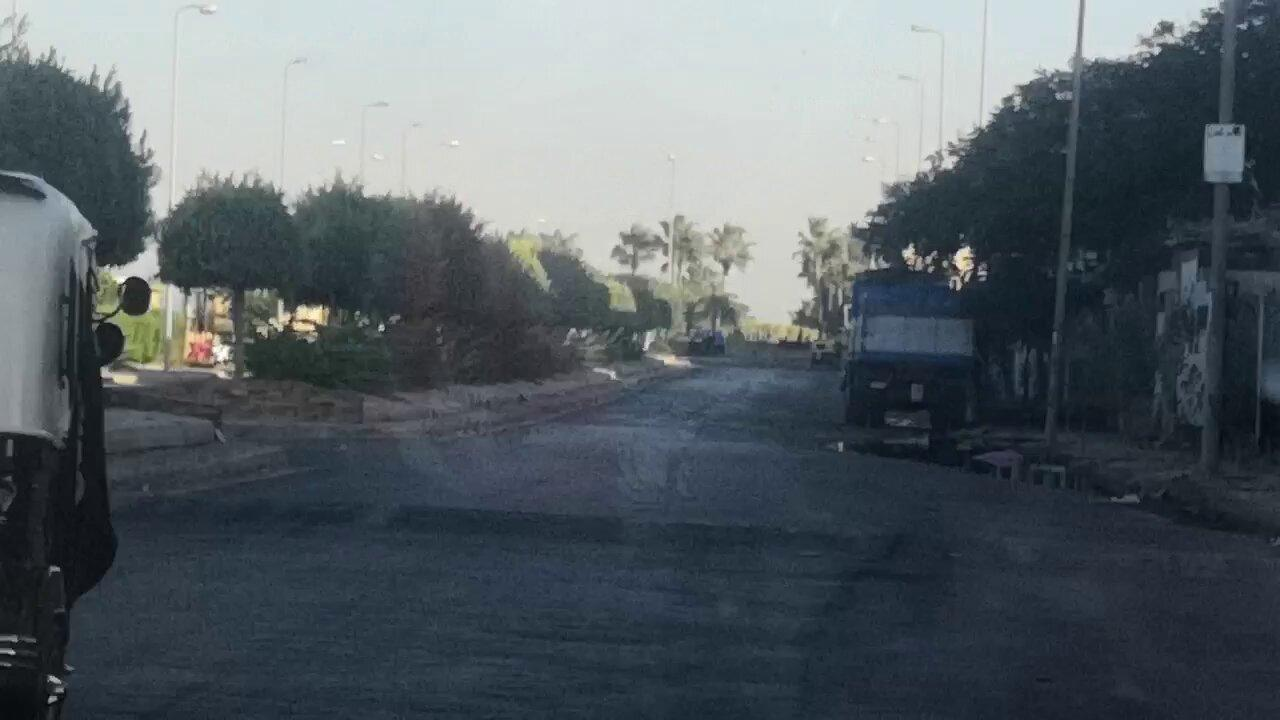Bump: (130, 482, 1280, 587)
